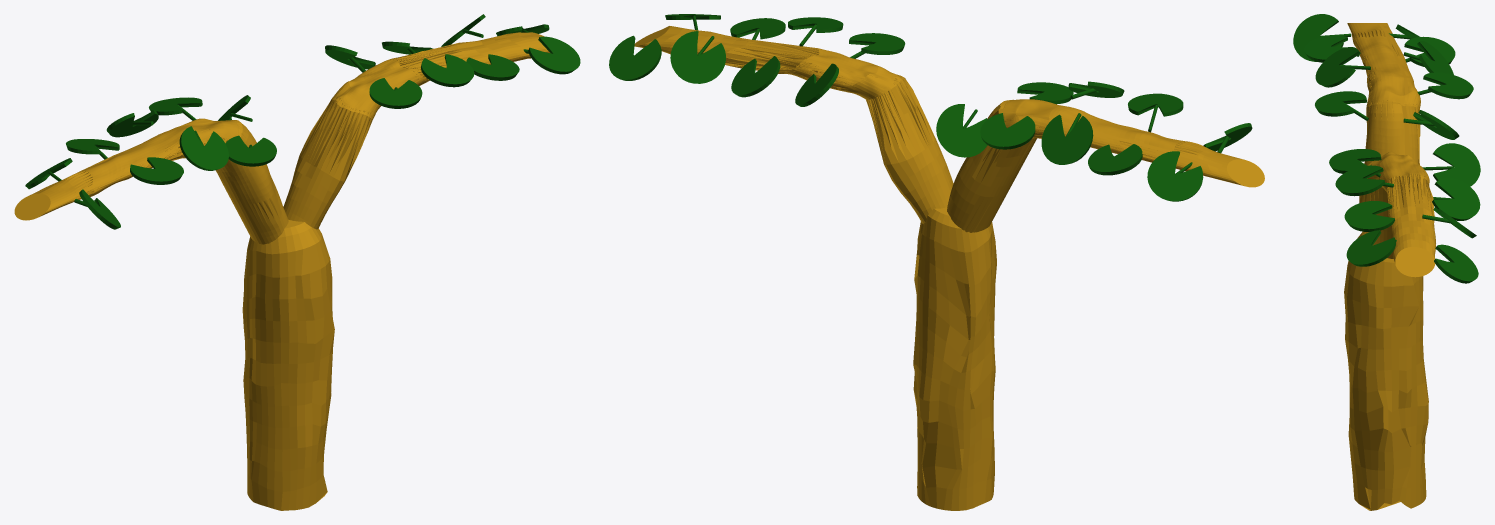
Rendered from tree.fbx.
The picture shows the model from 3 angles, left to right: view 1: azimuth 30°, elevation 25°; view 2: azimuth 150°, elevation 25°; view 3: azimuth 270°, elevation 25°; orthographic projection. The views are drawn at different scales.
Visible parts, largest first — view 1: 円柱, 円柱.001, 円柱.002, 円柱.012, 円柱.010, 円柱.008, 円柱.007, 円柱.011, 円柱.013, 円柱.009, 円柱.017, 円柱.016 (+3 smaller); view 2: 円柱, 円柱.001, 円柱.002, 円柱.005, 円柱.019, 円柱.017, 円柱.015, 円柱.006, 円柱.016, 円柱.003, 円柱.018, 円柱.013 (+6 smaller); view 3: 円柱, 円柱.002, 円柱.001, 円柱.004, 円柱.003, 円柱.010, 円柱.012, 円柱.009, 円柱.008, 円柱.006, 円柱.014, 円柱.011 (+8 smaller).
Boxes of the visible parts, x1,y1,x2,y2 form: 円柱: (242,219,334,510); 円柱.001: (283,32,549,229); 円柱.002: (14,118,288,244); 円柱.012: (179,126,228,170); 円柱.010: (523,36,580,74); 円柱.008: (421,54,474,87); 円柱.007: (369,78,422,108); 円柱.011: (225,135,276,166); 円柱.013: (130,157,183,184); 円柱.009: (466,54,519,80); 円柱.017: (106,110,158,137); 円柱.016: (149,97,202,120); 円柱: (913,207,996,510); 円柱.001: (634,26,953,224); 円柱.002: (947,99,1264,232); 円柱.005: (670,31,725,83); 円柱.019: (1147,151,1203,201); 円柱.017: (1041,113,1093,164); 円柱.015: (936,104,987,157); 円柱.006: (609,35,661,80); 円柱.016: (980,113,1035,149); 円柱.003: (731,56,780,97); 円柱.018: (1088,144,1142,175); 円柱.013: (1128,93,1183,132); 円柱: (1344,231,1428,510); 円柱.002: (1347,23,1420,165); 円柱.001: (1359,152,1435,277); 円柱.004: (1422,143,1480,186); 円柱.003: (1432,178,1480,220); 円柱.010: (1346,230,1396,266); 円柱.012: (1315,47,1370,87); 円柱.009: (1344,201,1394,231); 円柱.008: (1335,165,1393,196); 円柱.006: (1434,244,1478,283); 円柱.014: (1293,14,1351,61); 円柱.011: (1315,91,1368,120).
Bounding box in the file's own units: 254 × 173 × 74.49.
